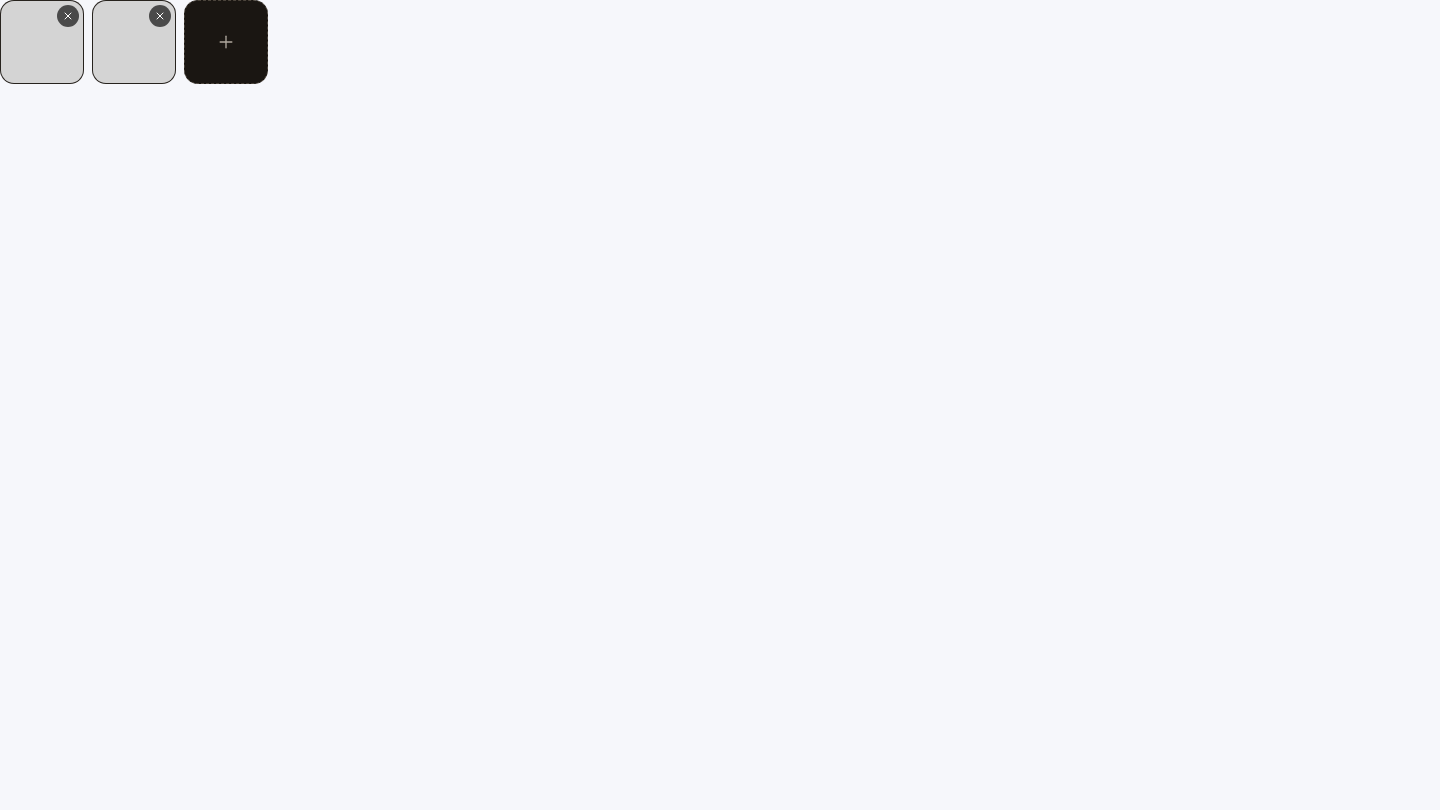
Test: MobileImageUpload — delete flow › tapping X enters delete-confirm state; sibling thumbs dim; confirm bar appears
What coordinates should you click on to do the following:
click the button with test id "image-upload-remove-1"
I would click on:
 (68, 16)
Its box is left=57, top=5, right=79, bottom=27.
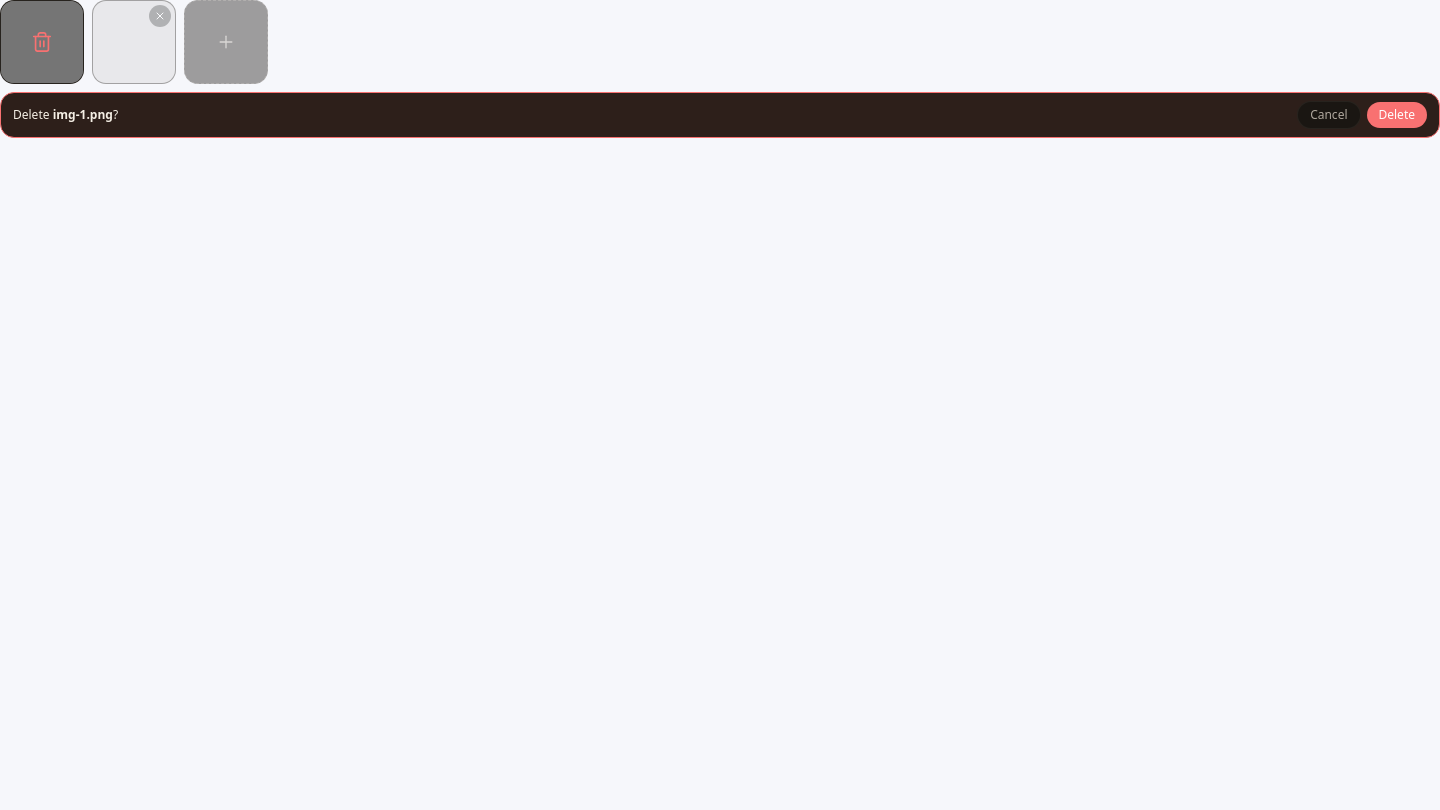
Expected: the dialog with test id "image-upload-delete-confirm-bar" is shown, left=0, top=92, right=1439, bottom=138
